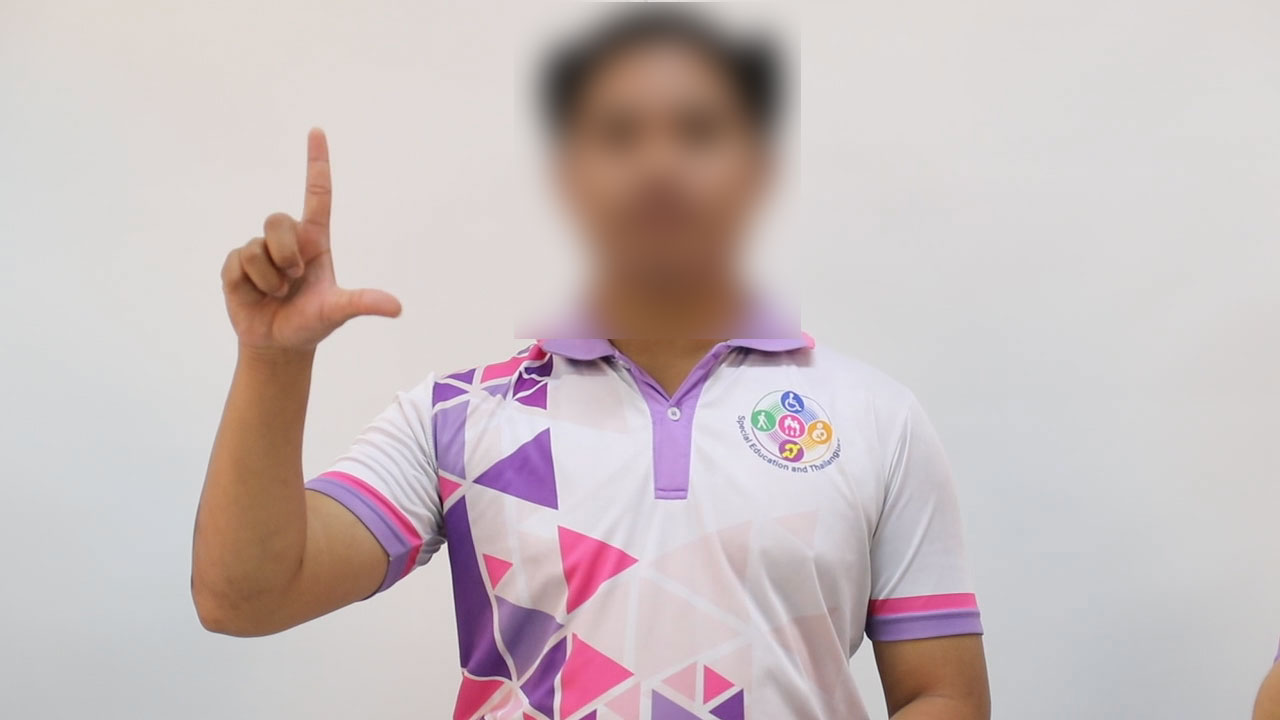lor: (203, 119, 413, 377)
